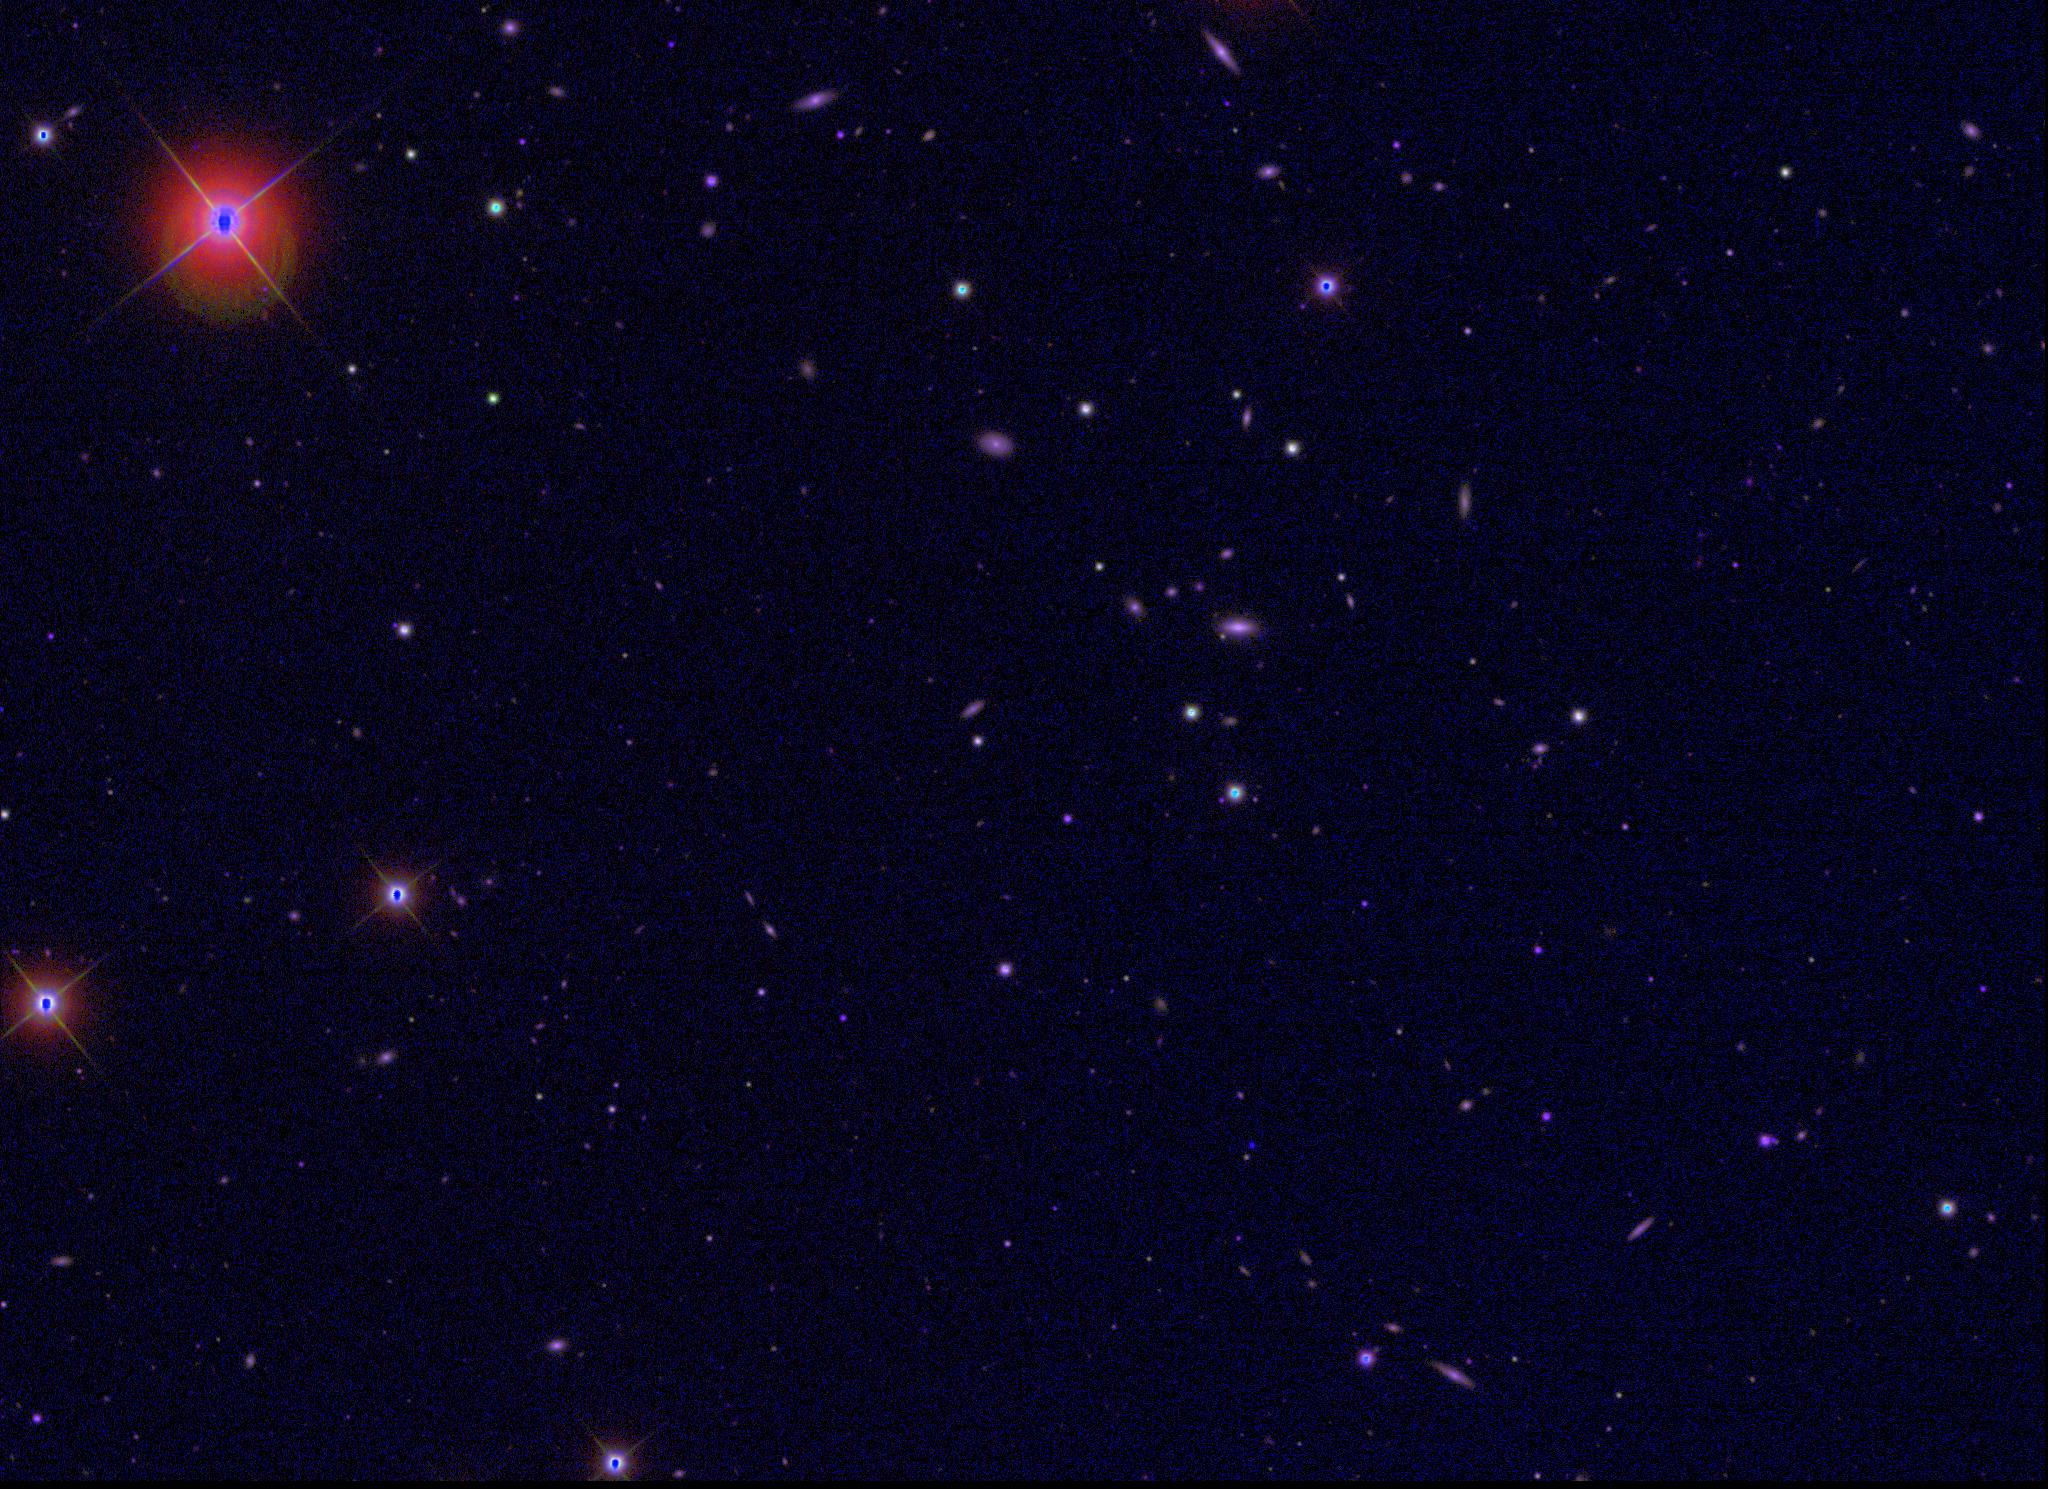L: (1247, 1136, 1261, 1150)
